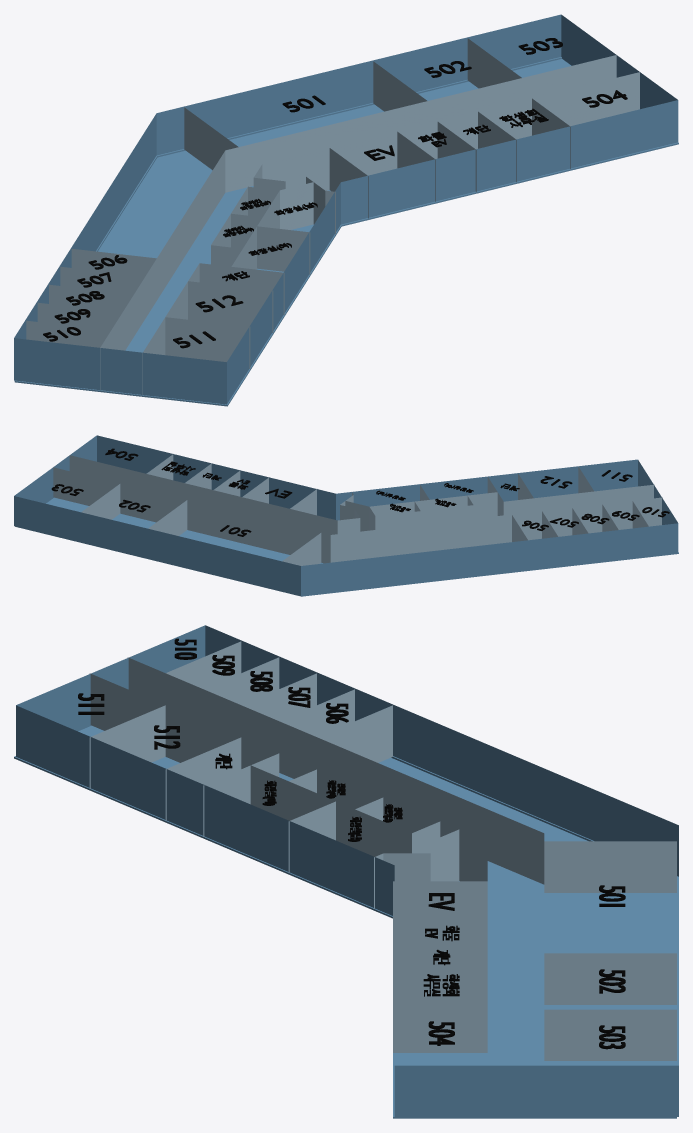
The model's file is 5floor.glb.
3 renders of one model, top to bottom at view 1: azimuth 30°, elevation 25°; view 2: azimuth 150°, elevation 25°; view 3: azimuth 270°, elevation 25°, orthographic. The views are drawn at different scales.
Visible parts, largest first — view 1: FloorAndWalls_4F, InnerWalls_4F; view 2: FloorAndWalls_4F, InnerWalls_4F; view 3: FloorAndWalls_4F, InnerWalls_4F.
Boxes of the visible parts, x1,y1,x2,y2 form: FloorAndWalls_4F: [14, 14, 678, 406]; InnerWalls_4F: [26, 38, 639, 394]; FloorAndWalls_4F: [14, 435, 678, 596]; InnerWalls_4F: [53, 454, 662, 565]; FloorAndWalls_4F: [14, 625, 678, 1118]; InnerWalls_4F: [89, 641, 676, 1060].
Bounding box in the file's own units: 550 × 31.5 × 351.
